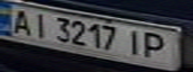1: (84, 20, 103, 50)
2: (66, 18, 87, 47)
3: (48, 15, 72, 44)
7: (100, 24, 121, 52)
A: (6, 7, 36, 36)
I: (121, 27, 148, 57), (27, 10, 54, 38)
P: (139, 29, 172, 60)
